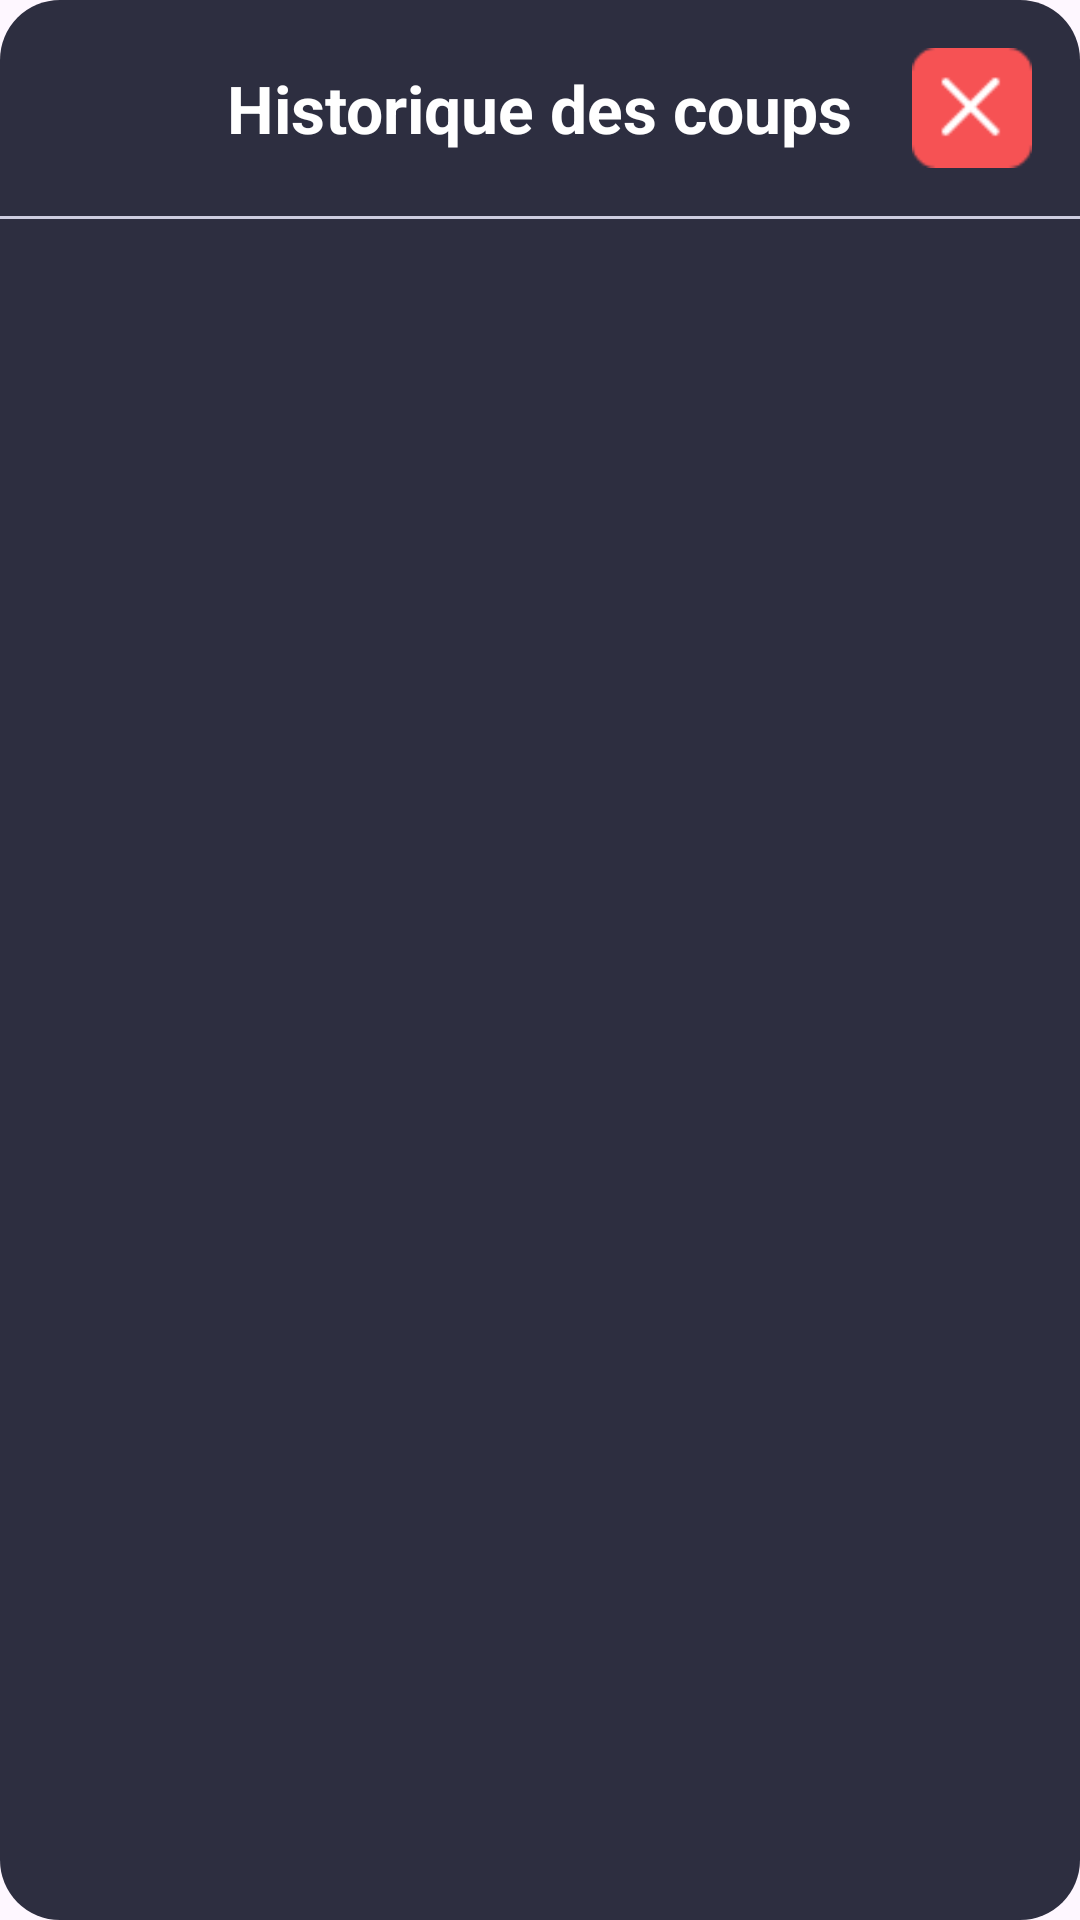

Named icons in this screenshot (1080px x 1920px) and their bounding boxes, (x1, y1, x2, y2):
defeat: (912, 48, 1032, 168)
